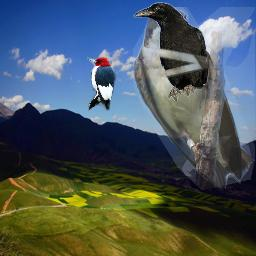Crow: (133, 2, 209, 101)
Swallow: (133, 7, 255, 190)
Woodpecker: (87, 55, 116, 112)
